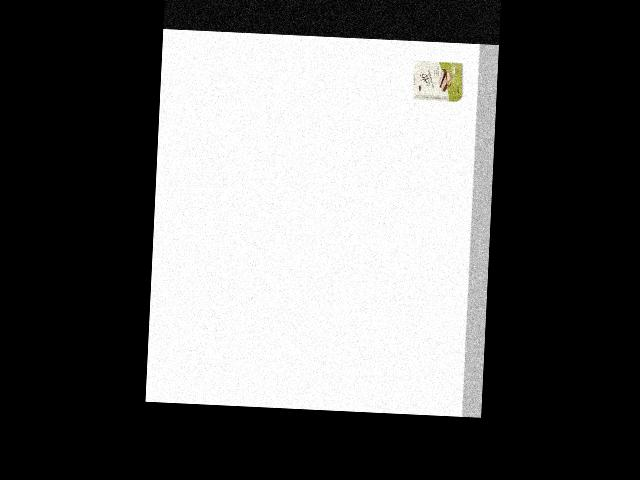chocolate: (411, 56, 466, 104)
